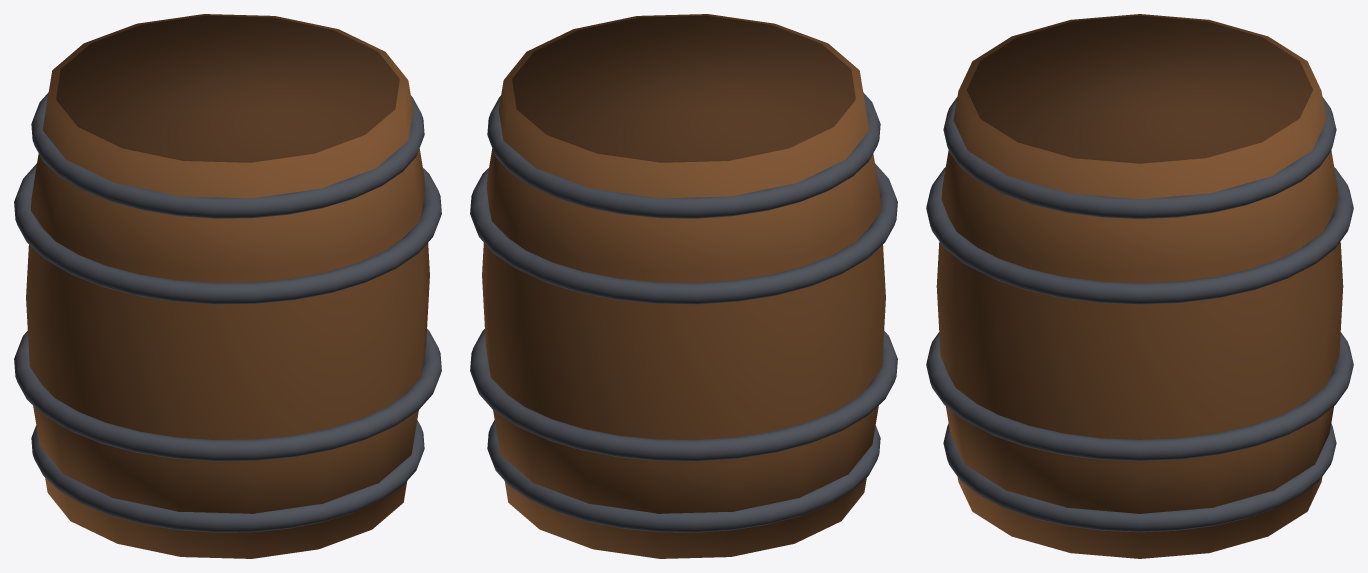
The model's file is barril.glb.
The picture shows the model from 3 angles, left to right: view 1: azimuth 30°, elevation 25°; view 2: azimuth 150°, elevation 25°; view 3: azimuth 270°, elevation 25°; orthographic projection.
Parts seen in each view (by area): view 1: barril; view 2: barril; view 3: barril.
Part boxes in pixels (x1,y1,x2,y2): barril: (14, 14, 441, 558); barril: (470, 14, 897, 558); barril: (926, 14, 1353, 558).
Bounding box in the file's own units: 0.99 × 1 × 0.99.
